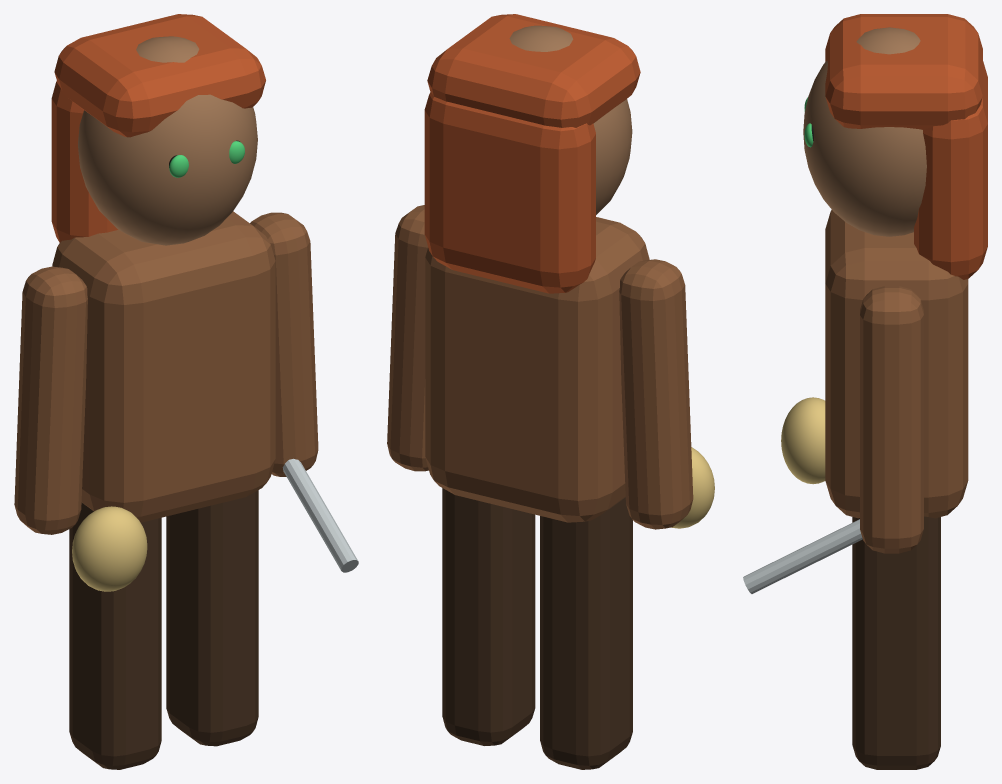
File: issac_4179.glb
3 renders of one model, left to right at view 1: azimuth 30°, elevation 25°; view 2: azimuth 150°, elevation 25°; view 3: azimuth 270°, elevation 25°, orthographic.
Visible parts, largest first — view 1: Fitted torso, Booted leg.001, Head, Booted leg, Detailed arm, Hair, Detailed arm.001, Shoulder-length red hair, Thread spool, Leather awl; view 2: Fitted torso, Shoulder-length red hair, Booted leg, Booted leg.001, Detailed arm, Hair, Detailed arm.001, Head, Thread spool; view 3: Fitted torso, Booted leg.001, Detailed arm.001, Hair, Head, Shoulder-length red hair, Thread spool, Leather awl.
Boxes of the visible parts, x1=… form: Fitted torso: x1=52, y1=211, x2=275, y2=522; Booted leg.001: x1=166, y1=490, x2=258, y2=746; Head: x1=78, y1=36, x2=257, y2=245; Booted leg: x1=69, y1=502, x2=161, y2=769; Detailed arm: x1=14, y1=266, x2=87, y2=534; Hair: x1=54, y1=14, x2=265, y2=137; Detailed arm.001: x1=250, y1=212, x2=318, y2=476; Shoulder-length red hair: x1=51, y1=81, x2=118, y2=242; Thread spool: x1=72, y1=506, x2=147, y2=591; Leather awl: x1=282, y1=458, x2=358, y2=572; Fitted torso: x1=425, y1=217, x2=649, y2=522; Shoulder-length red hair: x1=424, y1=92, x2=595, y2=293; Booted leg: x1=540, y1=497, x2=632, y2=769; Booted leg.001: x1=442, y1=488, x2=535, y2=745; Detailed arm: x1=619, y1=259, x2=693, y2=529; Hair: x1=427, y1=14, x2=640, y2=127; Detailed arm.001: x1=387, y1=205, x2=428, y2=471; Head: x1=509, y1=25, x2=632, y2=214; Thread spool: x1=671, y1=447, x2=714, y2=528; Fitted torso: x1=825, y1=210, x2=968, y2=518; Booted leg.001: x1=852, y1=516, x2=940, y2=769; Detailed arm.001: x1=860, y1=286, x2=923, y2=553; Hair: x1=825, y1=14, x2=982, y2=129; Head: x1=803, y1=27, x2=926, y2=236; Shoulder-length red hair: x1=914, y1=61, x2=987, y2=279; Thread spool: x1=781, y1=397, x2=825, y2=484; Leather awl: x1=743, y1=519, x2=862, y2=593.
Size of the model in its own units: 1.36 by 3.16 by 0.9944.
